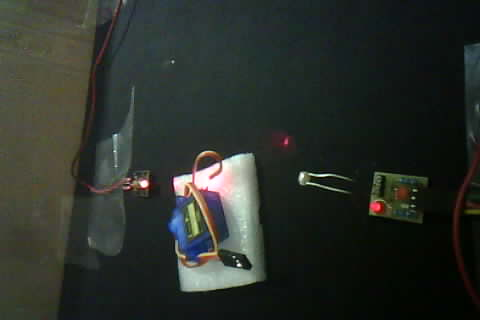motor: (164, 151, 271, 290)
